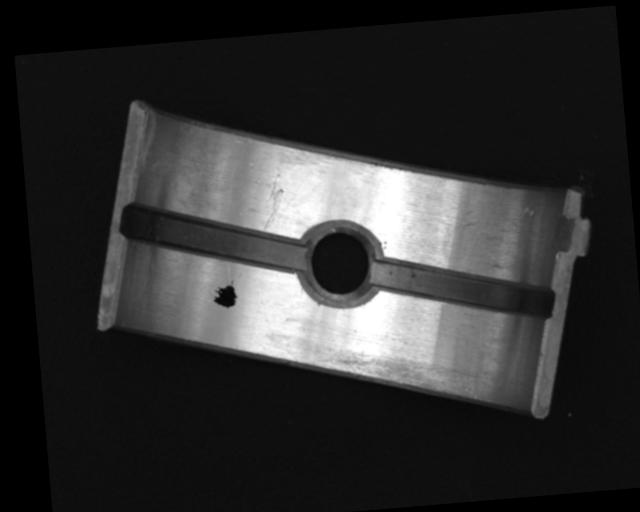blot: (211, 279, 238, 310)
bruise: (455, 219, 477, 229), (521, 205, 537, 218)
gap: (120, 191, 307, 287), (369, 246, 556, 332)
hole: (299, 221, 385, 310)
nick: (258, 173, 288, 231)
scratch: (314, 338, 484, 412)
